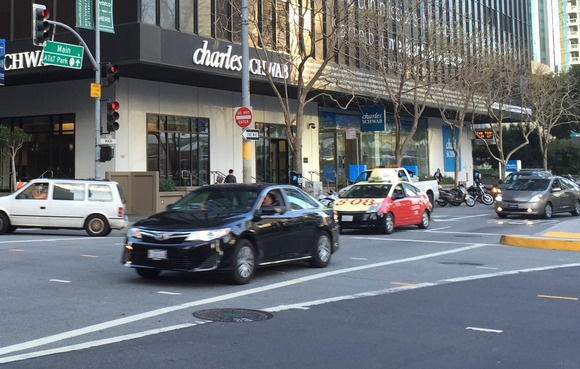car: (124, 183, 340, 282), (1, 177, 128, 235), (334, 180, 431, 233), (496, 176, 580, 221)
